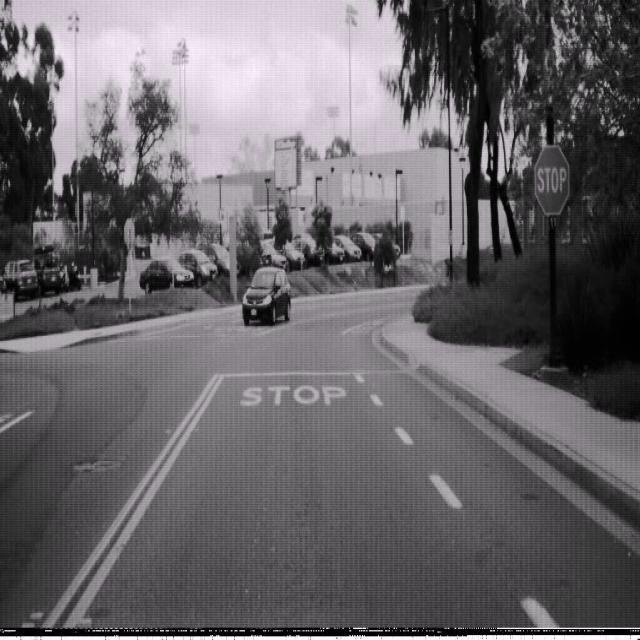stop_sign: (534, 142, 570, 215)
